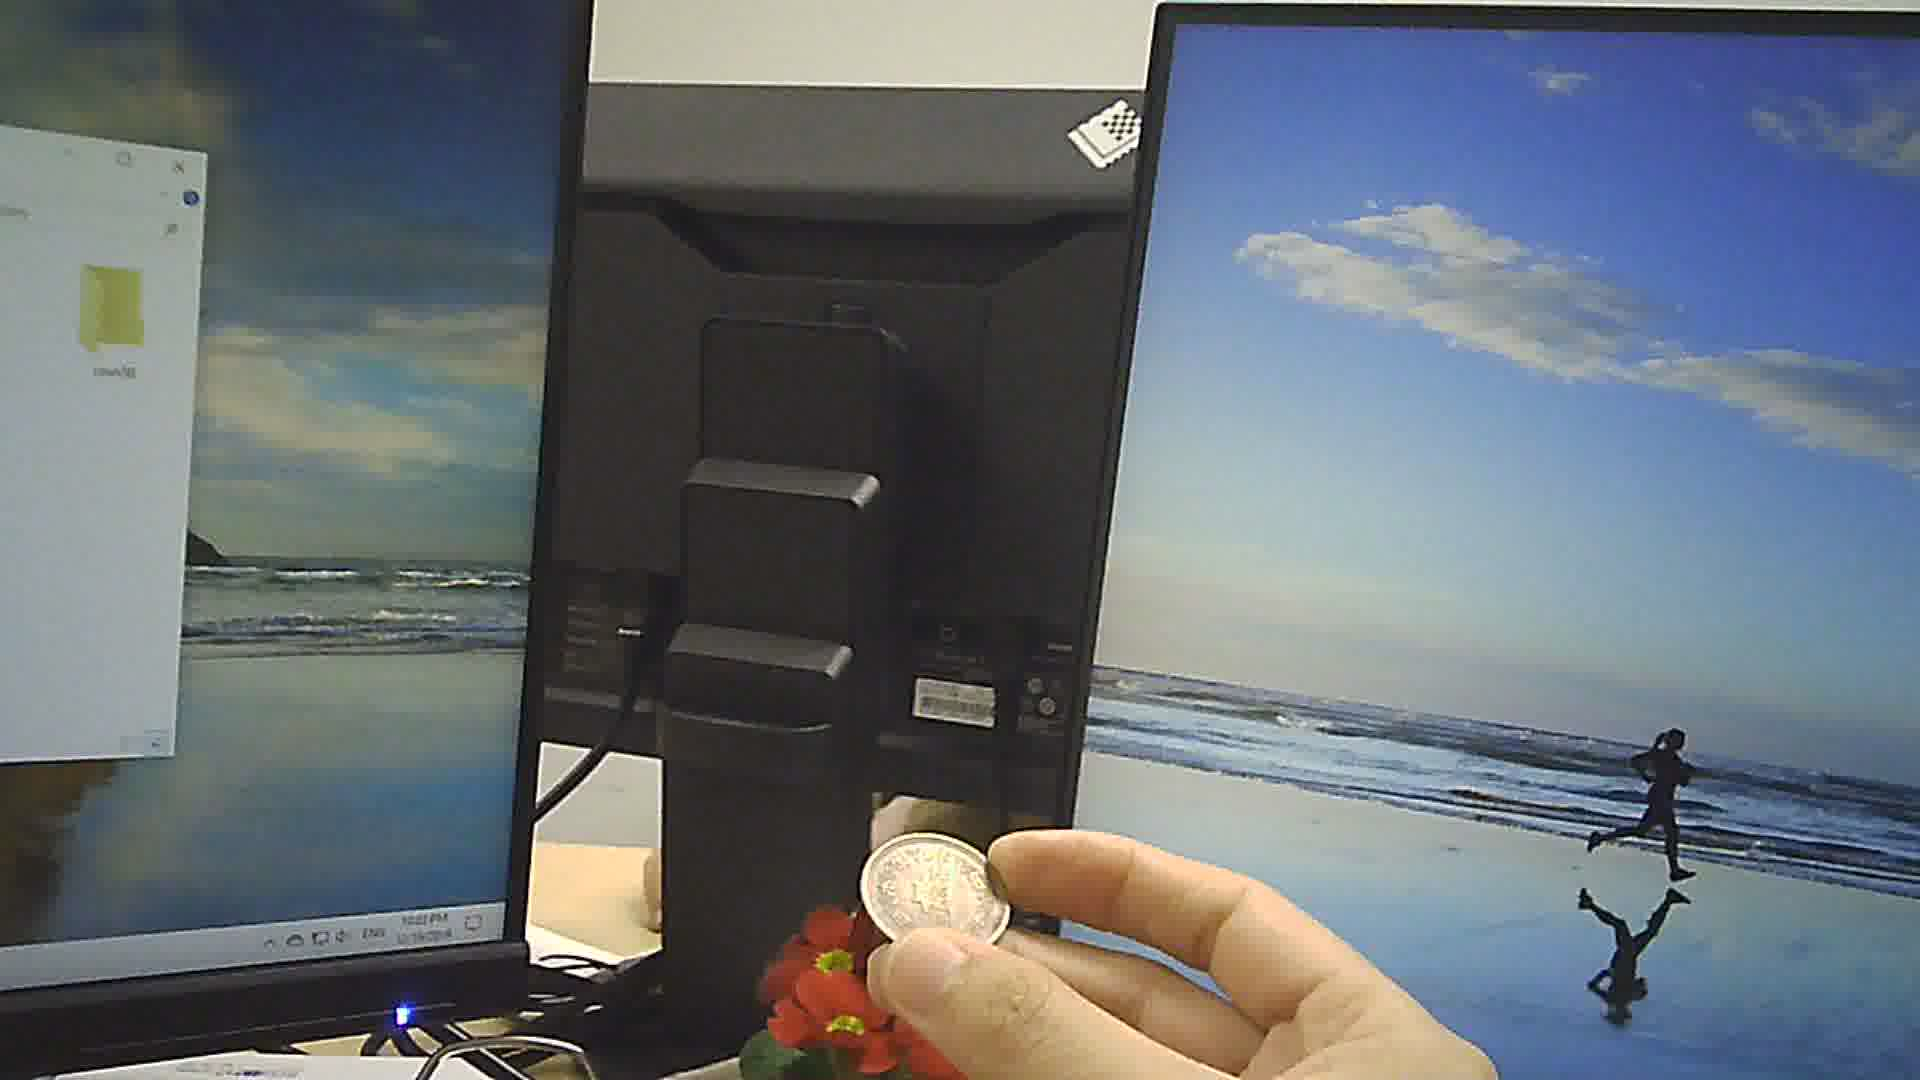10 Yen: (852, 829, 1025, 956)
